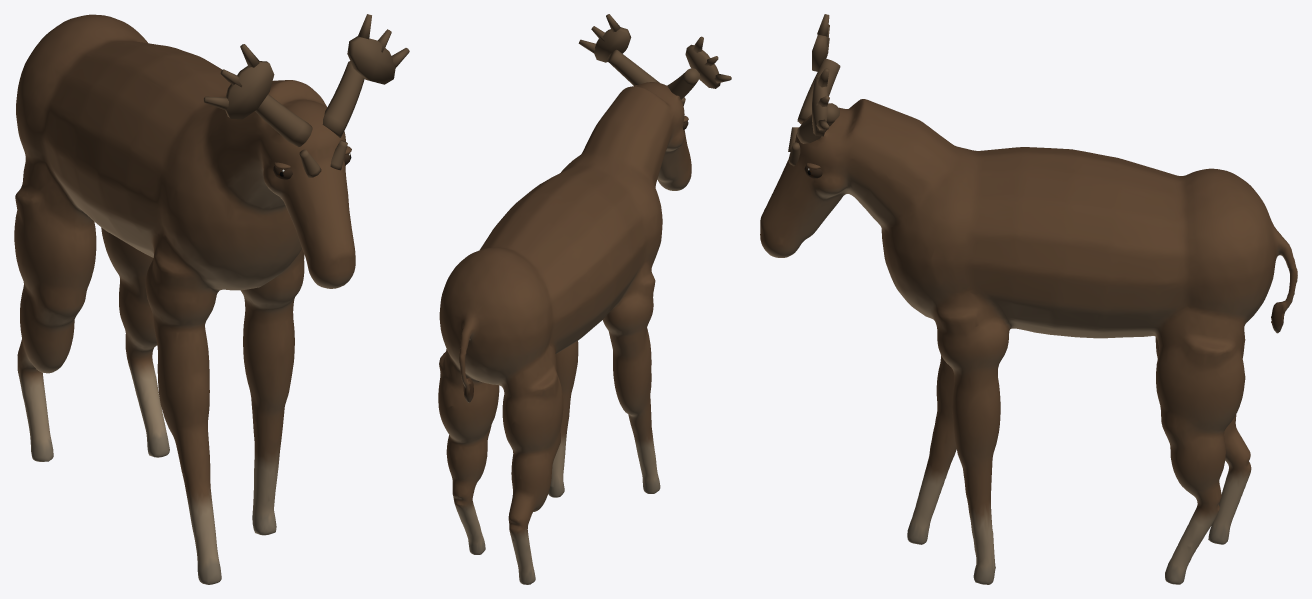
Rendered from SivatheriumGiganteum.fbx.
The picture shows the model from 3 angles, left to right: view 1: azimuth 30°, elevation 25°; view 2: azimuth 150°, elevation 25°; view 3: azimuth 270°, elevation 25°; orthographic projection. The views are drawn at different scales.
Parts seen in each view (by area): view 1: SivatheriumGiganteum; view 2: SivatheriumGiganteum; view 3: SivatheriumGiganteum.
Boxes of the visible parts, x1,y1,x2,y2 form: SivatheriumGiganteum: [14, 14, 409, 584]; SivatheriumGiganteum: [438, 14, 731, 584]; SivatheriumGiganteum: [760, 14, 1297, 584].
Bounding box in the file's own units: 0.6923 × 1.87 × 1.75.
